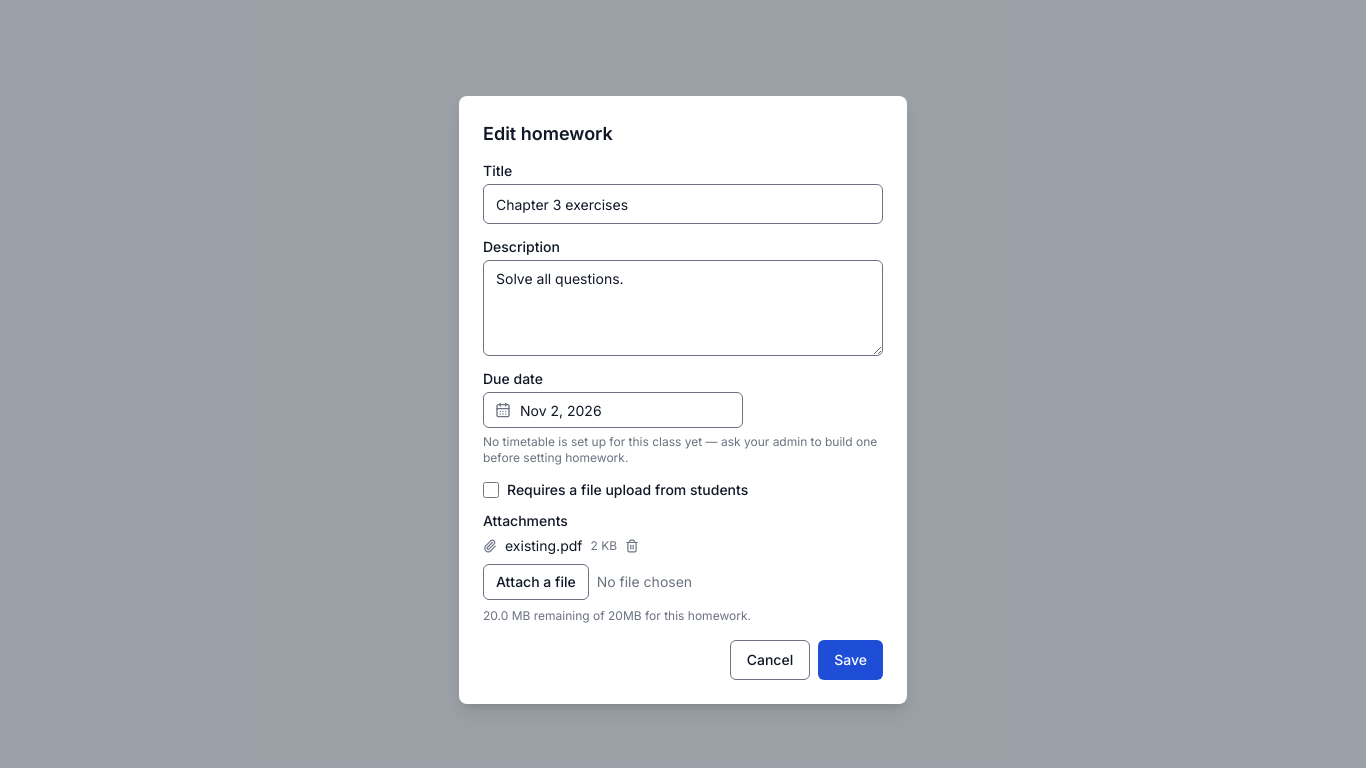
Test: HomeworkFormDialog › edit mode: deletes an existing attachment via the confirm dialog, removing it from the list
Check: the text "existing.pdf" is shown, box [505,536,582,556]
Click the button named "Delete existing.pdf" at [632, 546], box [625,539,639,553]
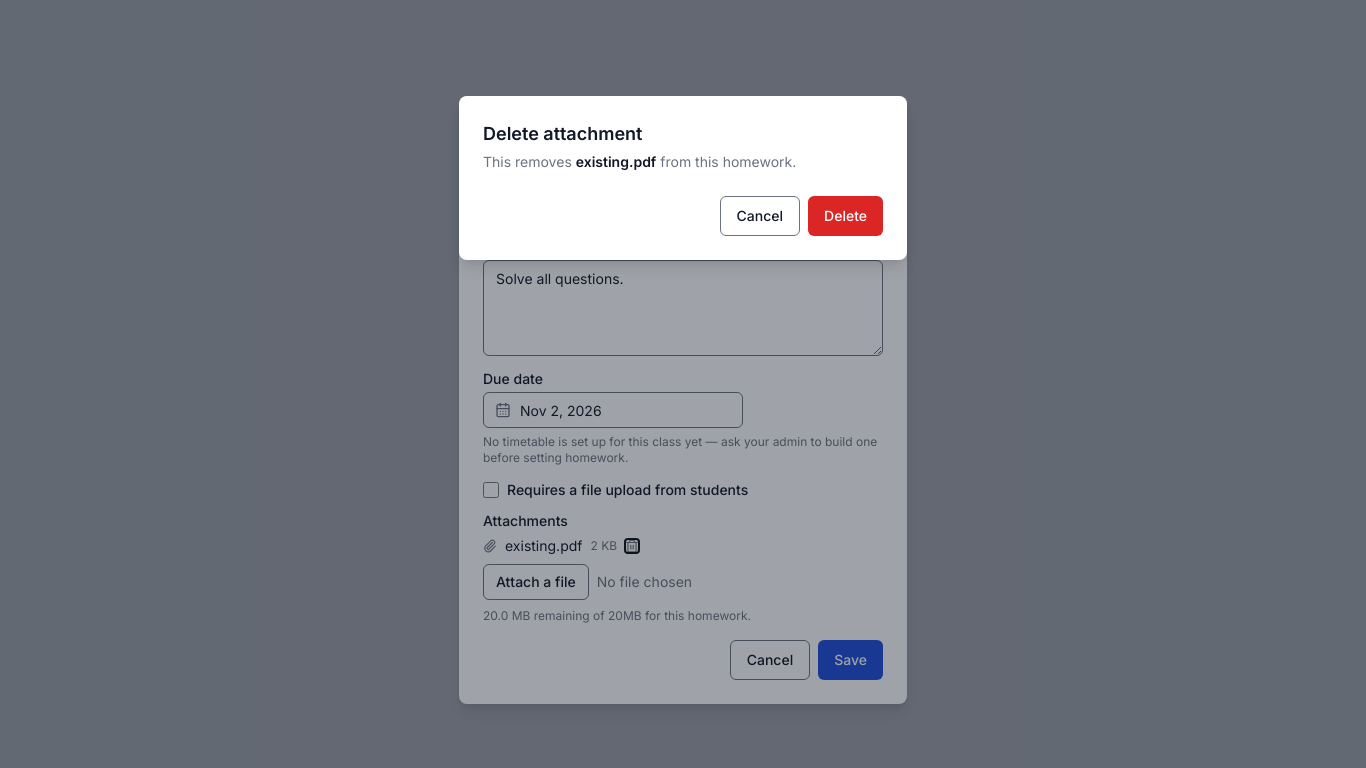
Check: the heading "Delete attachment" is shown, box [483,123,642,144]
Click the button "Delete" at [846, 216], box [808,196,883,236]
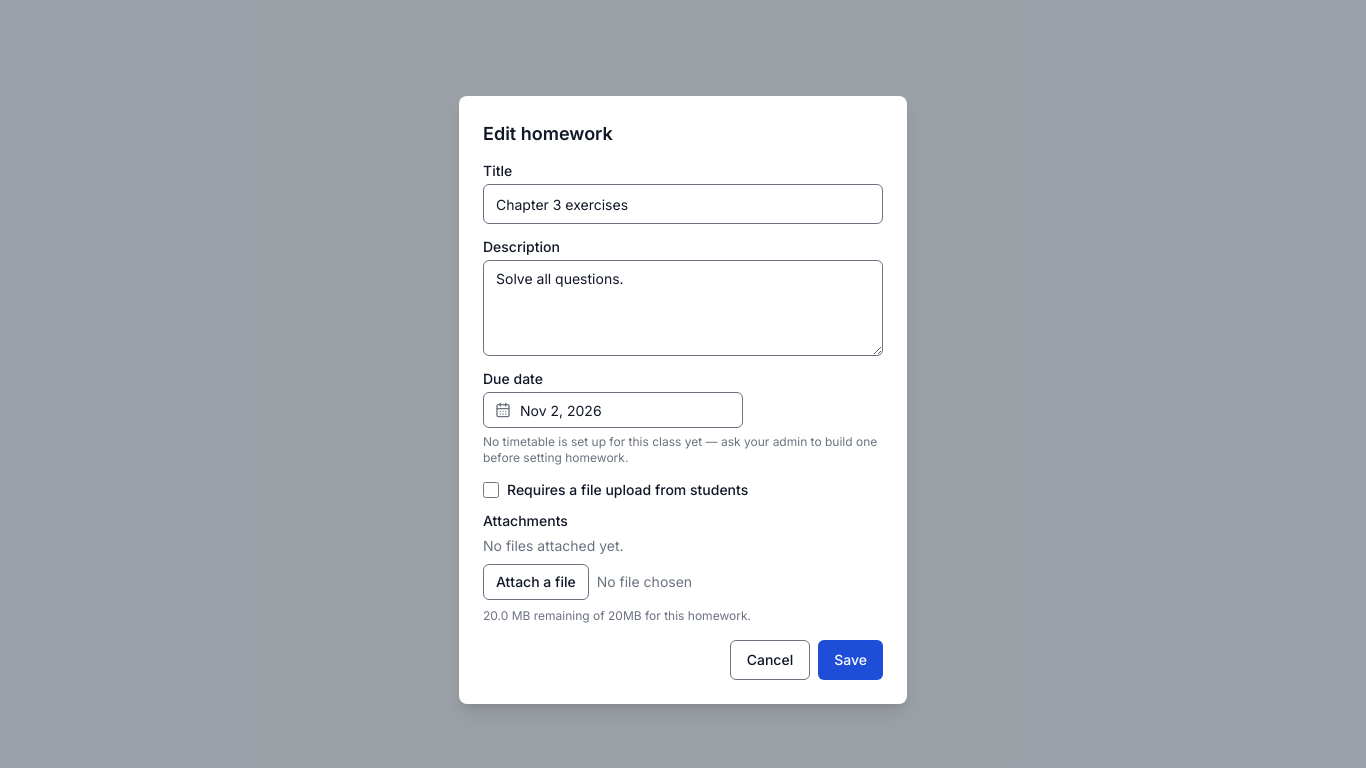
Check: the text "existing.pdf" is gone
